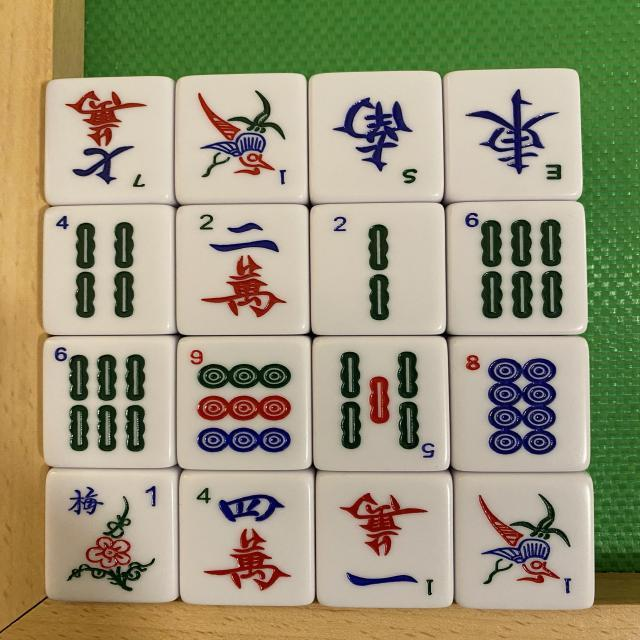bf1: (48, 472, 178, 606)
hwe: (448, 74, 578, 200)
hws: (312, 73, 442, 204)
sb1: (455, 472, 592, 608), (178, 74, 304, 200)
sb2: (312, 210, 444, 338)
sb4: (43, 206, 174, 335)
sb5: (313, 341, 448, 472)
sb6: (452, 208, 586, 336), (45, 340, 175, 468)
sc1: (318, 474, 453, 609)
sc2: (178, 210, 306, 336)
sc4: (177, 470, 313, 608)
sc7: (49, 79, 173, 206)
sd8: (454, 338, 590, 474)
sd9: (178, 339, 310, 472)
